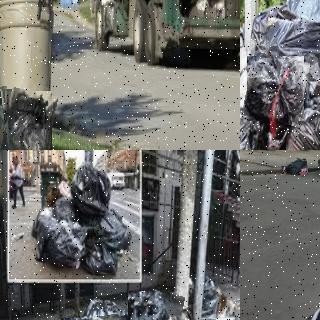Garbage: (244, 54, 307, 124), (31, 206, 85, 269), (1, 89, 55, 150), (69, 162, 110, 221), (277, 104, 320, 150), (0, 87, 14, 150), (285, 157, 309, 176), (282, 166, 293, 174)
